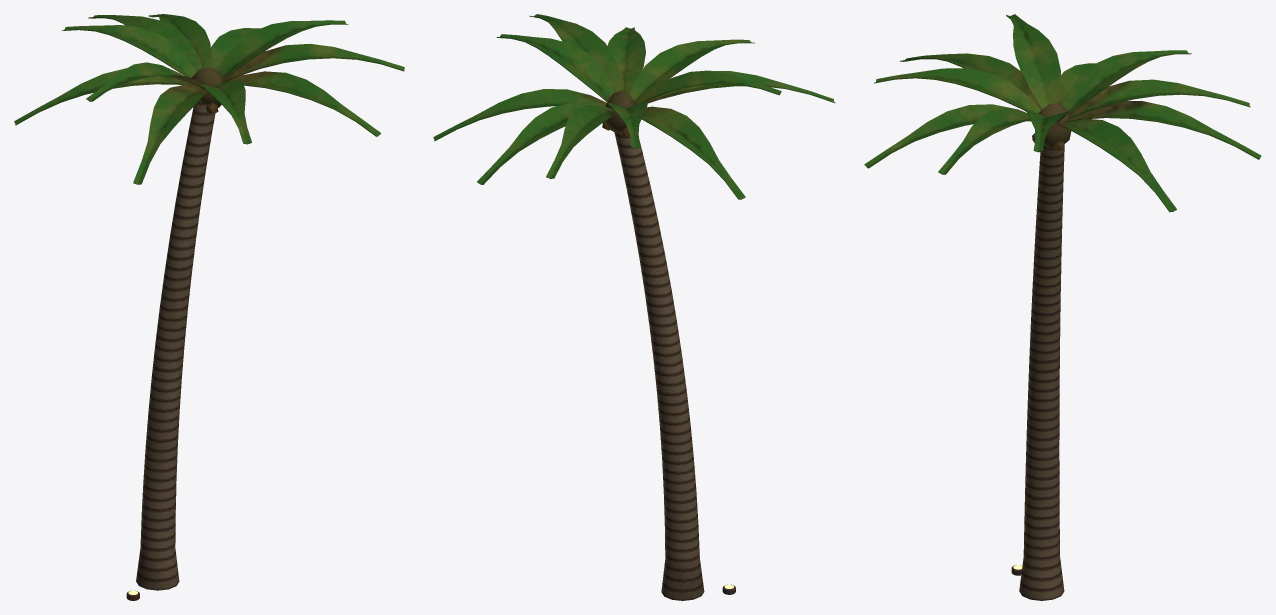
Rendered from palm_tree.glb.
3 views of the same model, side by side, from view 1: azimuth 30°, elevation 25°; view 2: azimuth 150°, elevation 25°; view 3: azimuth 270°, elevation 25° (orthographic). The views are drawn at different scales.
Parts seen in each view (by area): view 1: palm_tree; view 2: palm_tree; view 3: palm_tree.
Boxes of the visible parts, <box> form: palm_tree: <box>14,14,404,600</box>; palm_tree: <box>433,14,835,600</box>; palm_tree: <box>864,14,1261,600</box>.
Size of what is drawn, in the model's own units: 4.69 by 7.68 by 5.1.
1 material, 1 textured.
